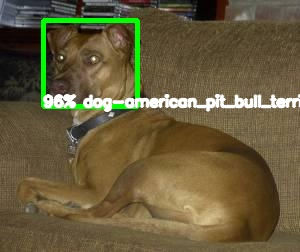dog-american_pit_bull_terrier: (46, 22, 133, 107)
